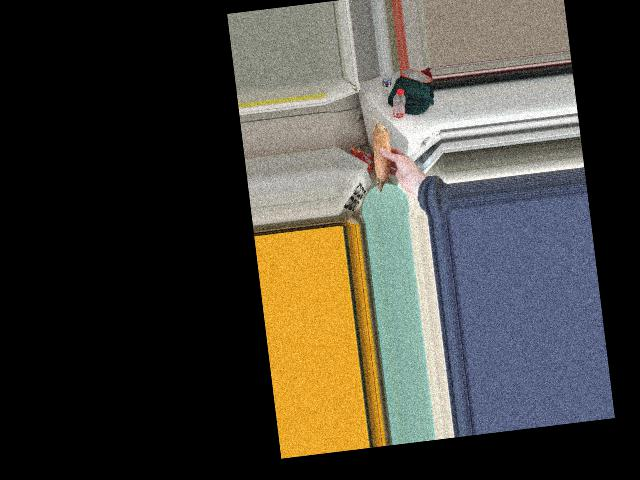sweet_potato: (364, 119, 399, 192)
